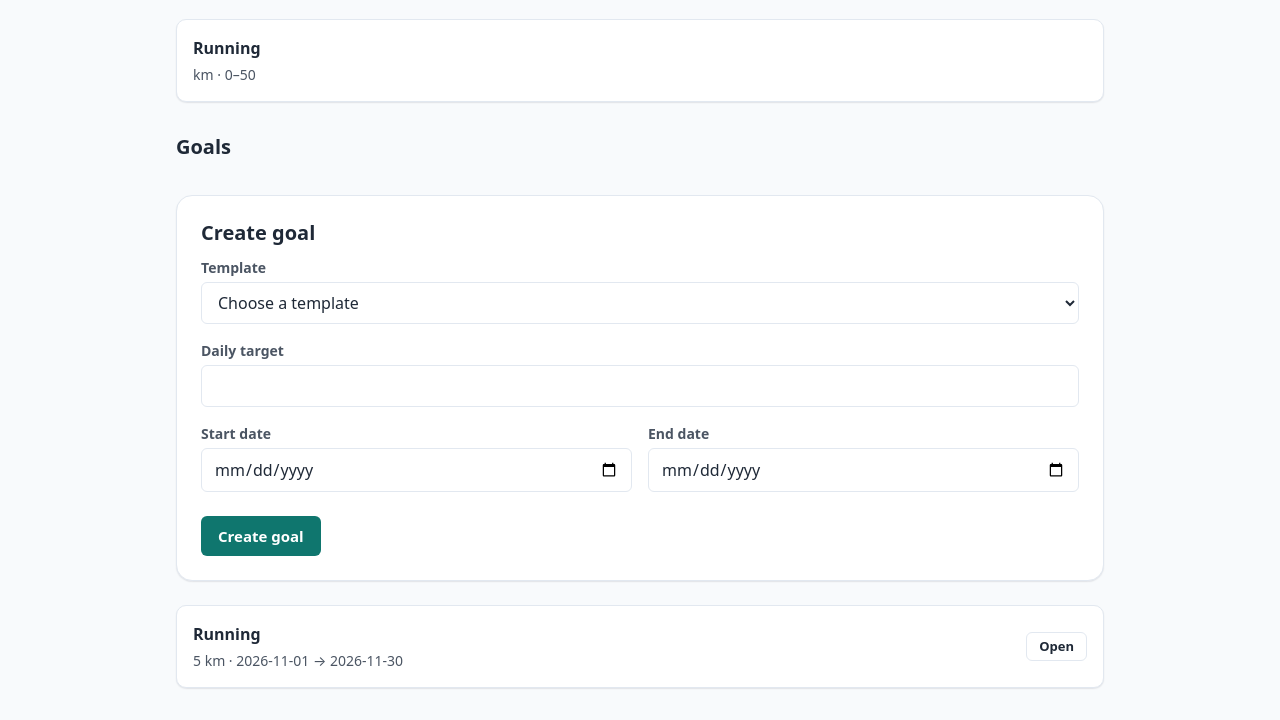
Test: AC-04.22 session expiry › TEST-04.22 rendered through App, a 401 from GET progress shows the login form
(page scrolled)
Click the button with aria-label "open running goal" at (1057, 647), box [1026, 632, 1087, 661]
(page scrolled)
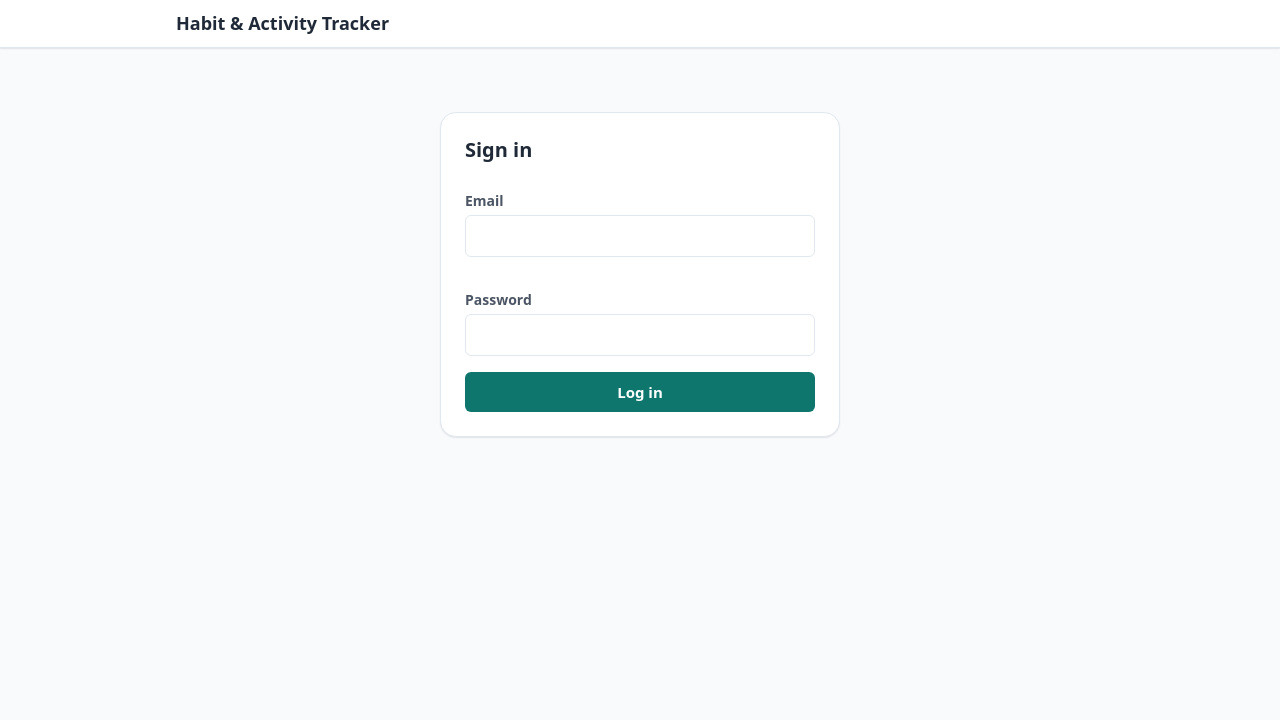
Check: the field labelled "Email" is shown, box [465, 214, 815, 256]
Check: the password field labelled "Password" is shown, box [465, 314, 815, 356]
